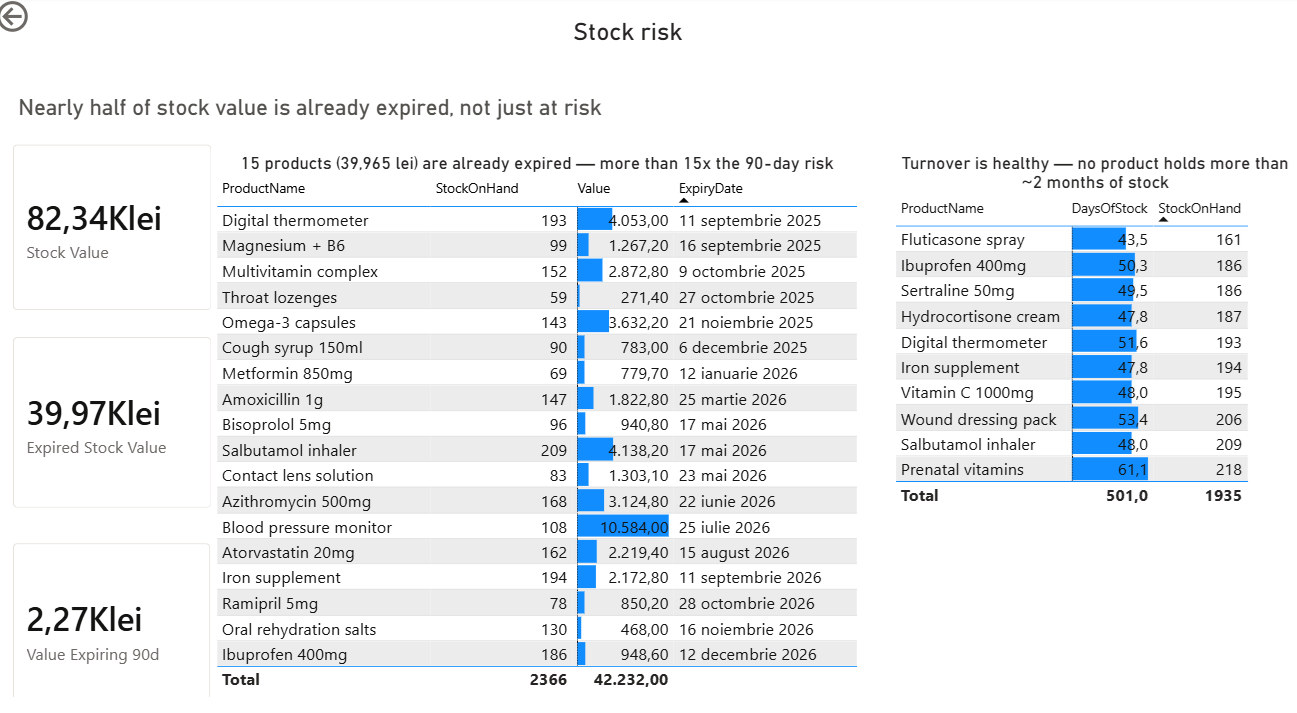

The dashboard page shown, as its layout file describes it:
{"tool":"powerbi","page":{"name":"Stock  risk","canvas":[1280,720],"ordinal":3},"visuals":[{"type":"cardVisual","fields":{"Data":["Inventory.Stock Value"]},"box":[3.1,128.5,228.6,196.1],"z":0},{"type":"cardVisual","fields":{"Data":["Inventory.Value Expiring 90d"]},"box":[3.1,518.2,227.3,202.3],"z":1000},{"type":"cardVisual","fields":{"Data":["Inventory.Expired Stock Value"]},"box":[3.1,317.1,228.6,201.1],"z":2000},{"type":"tableEx","title":"15 products (39,965 lei) are already expired — more than 15x the 90-day risk","fields":{"Values":["Inventory.ProductName","Sum(Inventory.StockOnHand)","Sum(Inventory.Value)","Inventory.ExpiryDate"]},"box":[213.6,152.4,638.3,567.1],"z":3000},{"type":"actionButton","box":[0,0,100,40],"z":4000},{"type":"tableEx","title":"Turnover is healthy — no product holds more than ~2 months of stock","fields":{"Values":["Slow Movers.ProductName","Sum(Slow Movers.DaysOfStock)","Sum(Slow Movers.StockOnHand)"]},"box":[878.1,152.4,402.2,412.2],"z":5000},{"type":"textbox","box":[21.2,91.2,607,38.7],"z":6000},{"type":"textbox","box":[489.6,20,299.8,46.2],"z":7000}]}

Visuals, with their boxes in screenshot pixels (x1, y1, x2, y2), scaled from the page's 1280x720 canvas onto the 1297x713 screenshot:
cardVisual - Inventory.Stock Value: [x1=3, y1=127, x2=235, y2=321]
cardVisual - Inventory.Value Expiring 90d: [x1=3, y1=513, x2=233, y2=712]
cardVisual - Inventory.Expired Stock Value: [x1=3, y1=314, x2=235, y2=513]
"15 products (39,965 lei) are already expired — more than 15x the 90-day risk" tableEx: [x1=216, y1=151, x2=863, y2=712]
actionButton: [x1=0, y1=0, x2=101, y2=40]
"Turnover is healthy — no product holds more than ~2 months of stock" tableEx: [x1=890, y1=151, x2=1296, y2=559]
textbox: [x1=21, y1=90, x2=637, y2=129]
textbox: [x1=496, y1=20, x2=800, y2=66]
